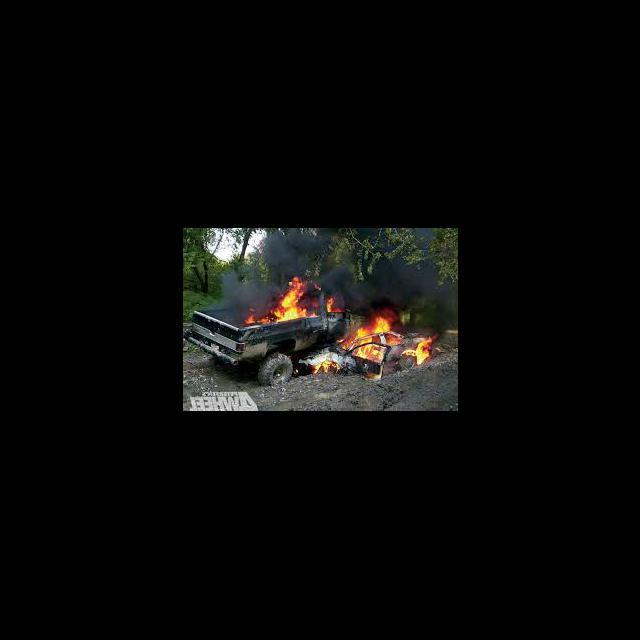Fire: (270, 278, 310, 323), (354, 302, 398, 338), (401, 334, 438, 368), (310, 358, 342, 376), (355, 337, 373, 359), (335, 334, 353, 352), (326, 298, 344, 312), (374, 348, 387, 363), (256, 314, 270, 326), (388, 336, 398, 346), (244, 316, 254, 326)
Smoke: (372, 251, 438, 300), (264, 232, 326, 276), (216, 260, 268, 312), (327, 268, 372, 300)
